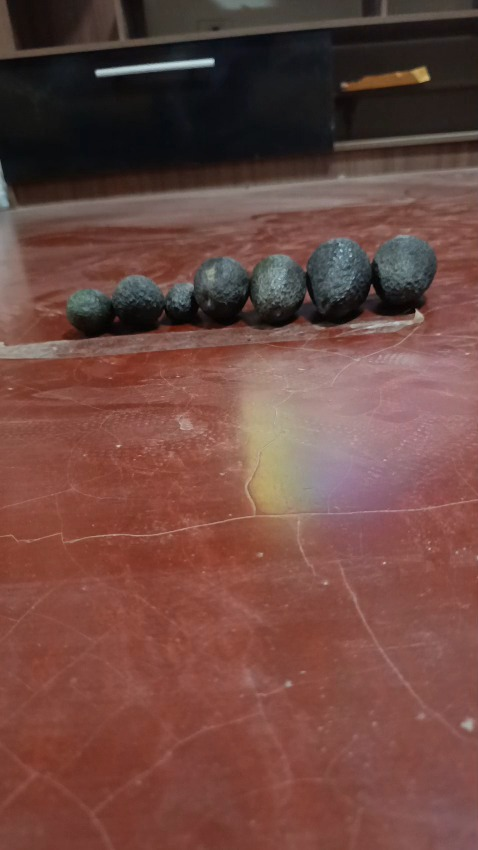Primera: (305, 237, 371, 321), (371, 234, 437, 311)
Segunda: (249, 253, 307, 325), (193, 255, 250, 323), (111, 274, 165, 330)
Tercera: (66, 288, 112, 336), (165, 282, 197, 324)
